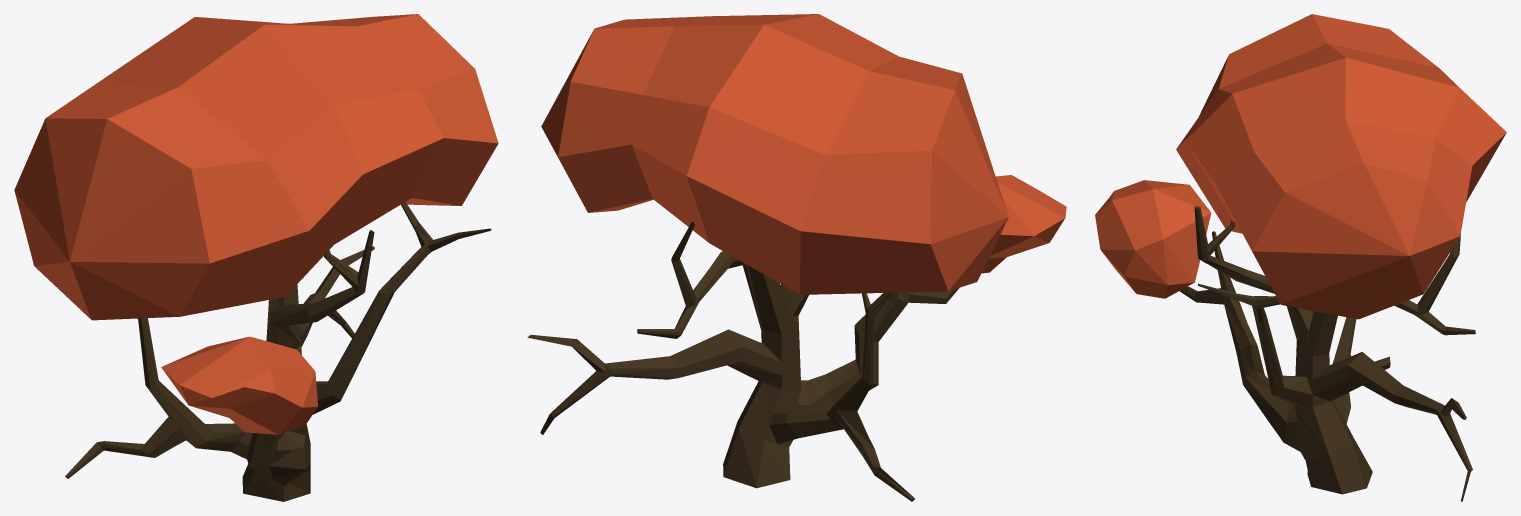
Rendered from tree2.fbx.
3 renders of one model, left to right at view 1: azimuth 30°, elevation 25°; view 2: azimuth 150°, elevation 25°; view 3: azimuth 270°, elevation 25°, orthographic. The views are drawn at different scales.
Parts seen in each view (by area): view 1: Sphere040, Cylinder119, Sphere041; view 2: Sphere040, Cylinder119, Sphere041; view 3: Sphere040, Cylinder119, Sphere041.
Part boxes in pixels (x1,y1,x2,y2): Sphere040: (14,14,498,320); Cylinder119: (65,202,491,501); Sphere041: (161,336,317,434); Sphere040: (541,14,1008,294); Cylinder119: (527,221,959,501); Sphere041: (982,175,1066,273); Sphere040: (1176,14,1506,319); Cylinder119: (1179,206,1475,501); Sphere041: (1095,180,1211,298).
Bounding box in the file's own units: 1611 × 1711 × 1531.
